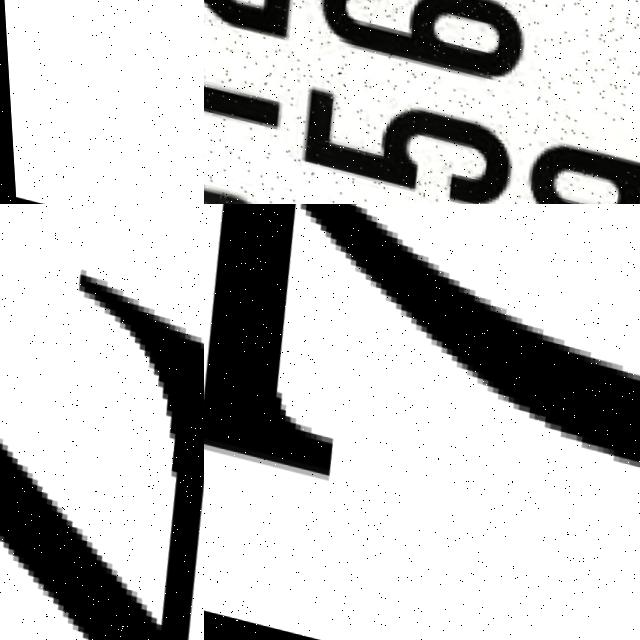1: (204, 50, 280, 162)
5: (286, 71, 515, 204)
6: (300, 0, 529, 85)
7: (204, 204, 640, 572)
9: (516, 124, 640, 204)
A: (0, 0, 204, 204)
Z: (0, 204, 204, 640)
